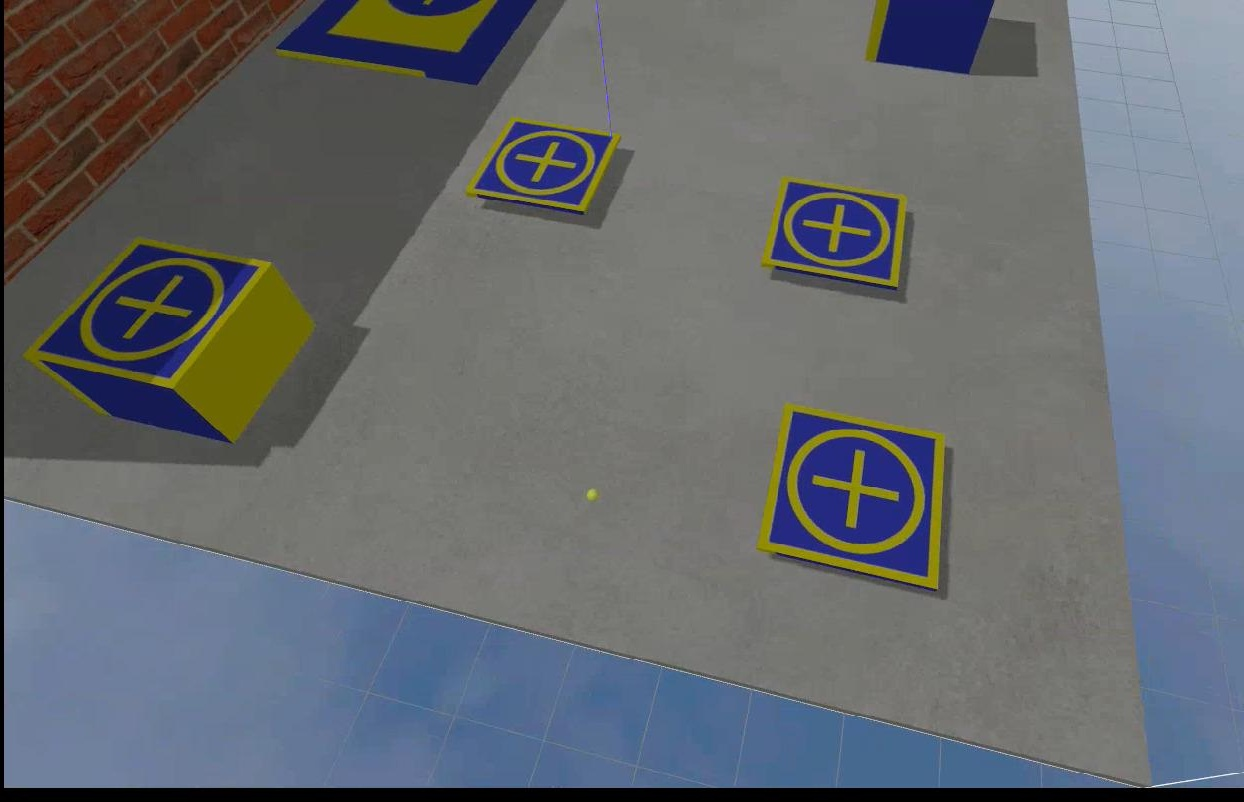large_base: (269, 1, 531, 82)
small_base: (19, 238, 277, 400), (760, 405, 946, 594), (759, 180, 907, 292), (464, 125, 612, 214)
